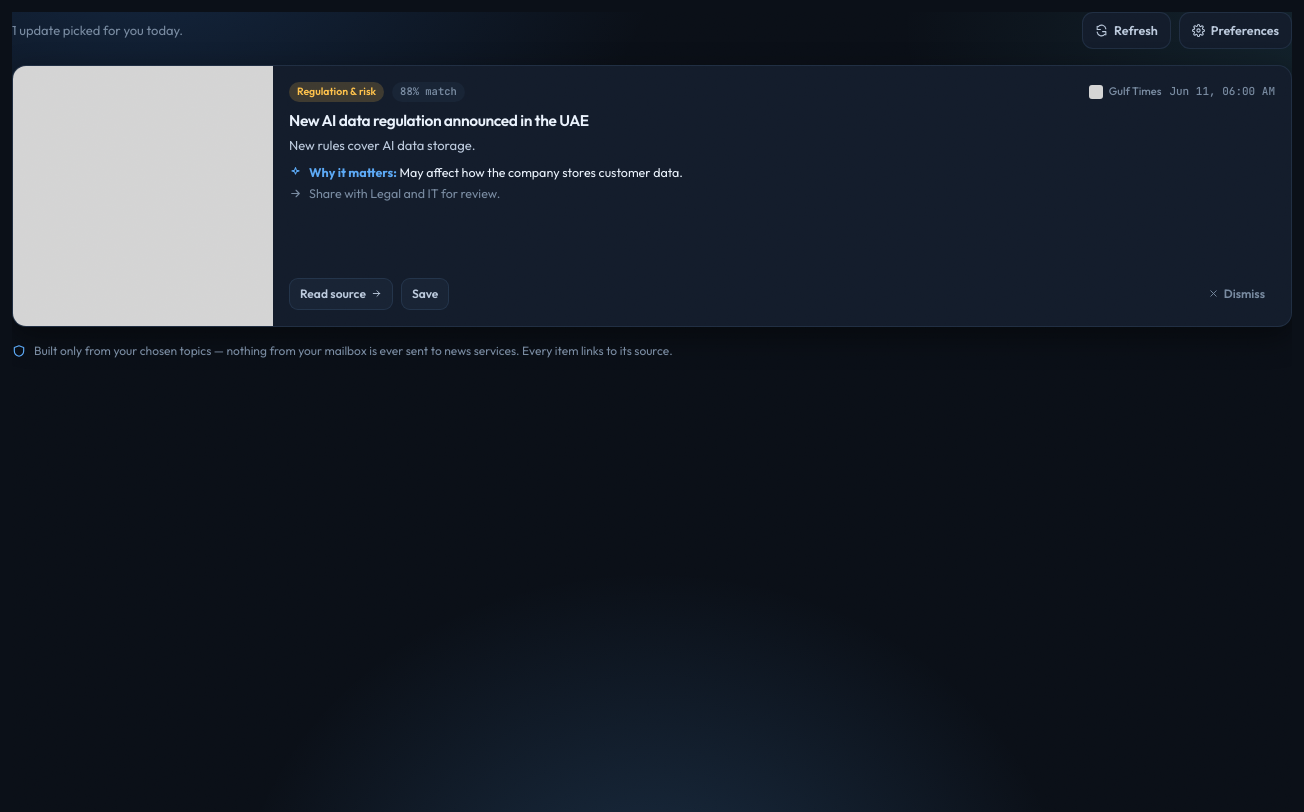
Test case: BriefingView › dismissing an item removes it optimistically
This screenshot has width=1304, height=812.
Click the button "Dismiss": (1236, 294) [1198, 279, 1275, 309]
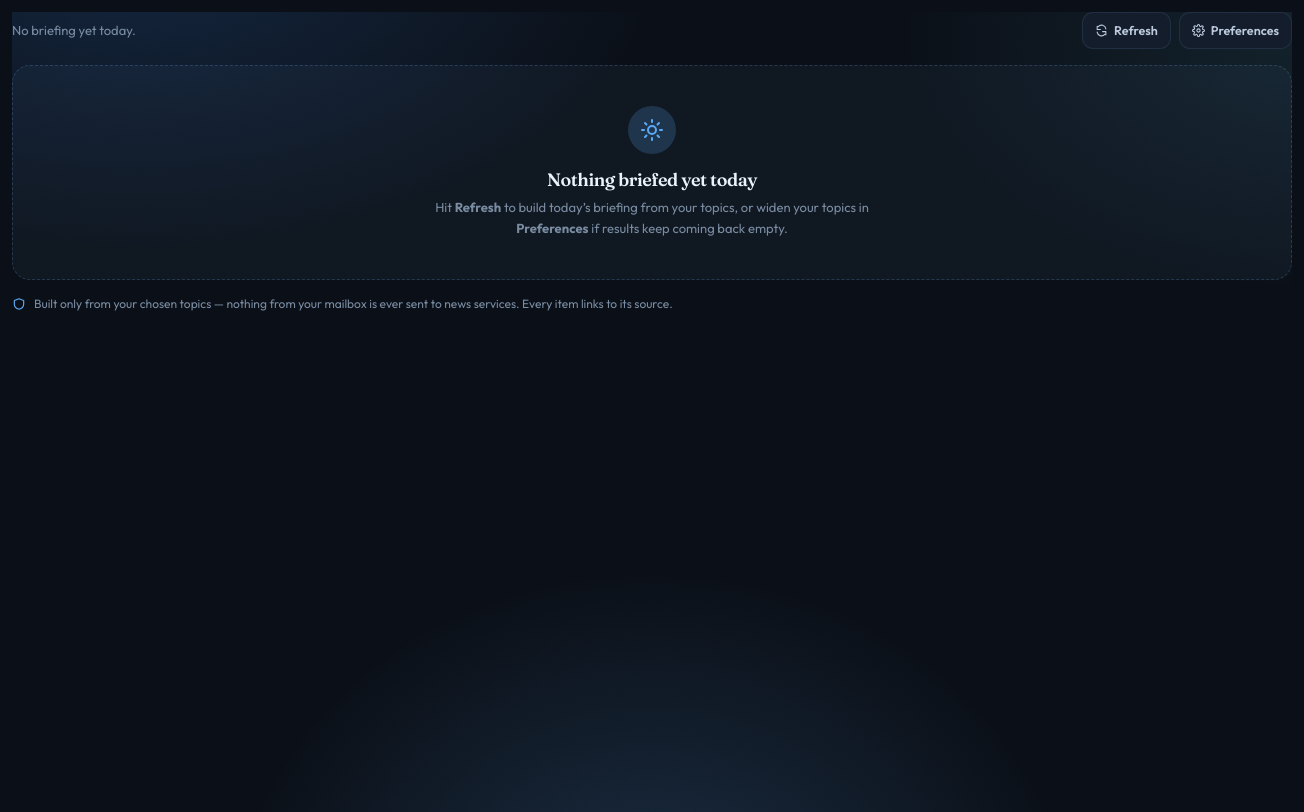
Result: the heading "New AI data regulation announced in the UAE" is gone
